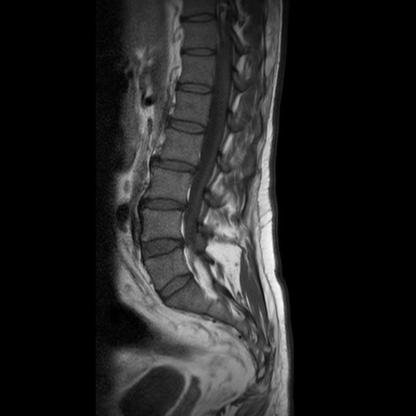Degenerative Disc Diseaserotation: (155, 157, 196, 176), (144, 197, 186, 215)
Disc Bulgerotation: (139, 236, 186, 259), (156, 157, 197, 176), (144, 197, 186, 214)
